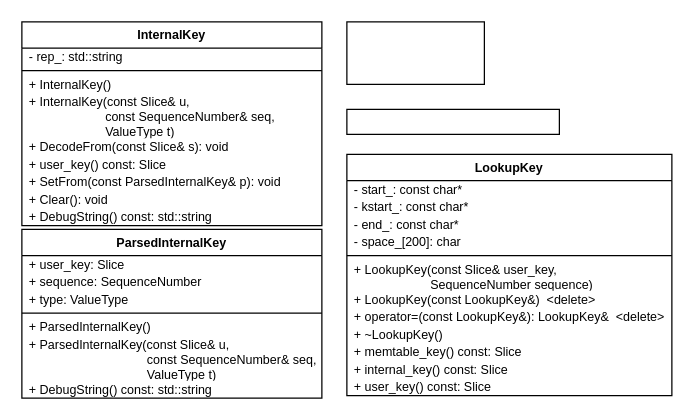
Image size: 694x420. Some labels were removed from this diagram. The shapes that lost their labels are listed below. From the top down, each one's centre as x and y in pixels, then its label:
the point at 415,52: enum ValueType { kTypeDeletion = 0x0, kTypeValue = 0x1 };
the point at 452,121: typedef uint64_t SequenceNumber;
